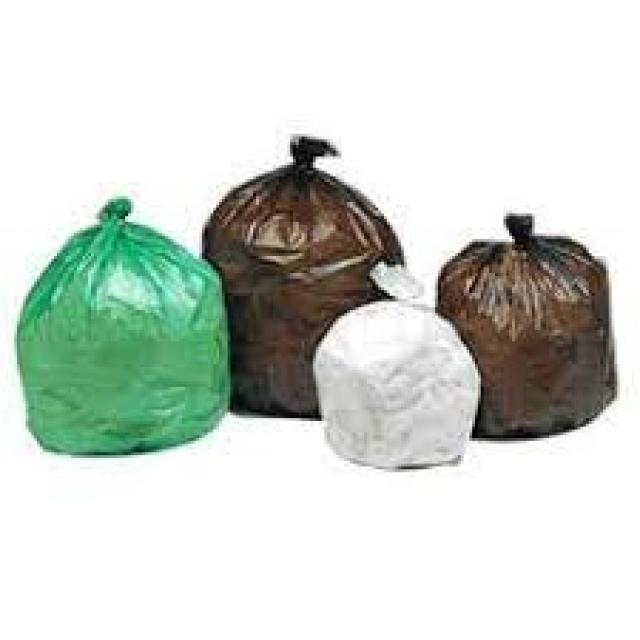sampah-detection: (193, 134, 401, 421), (14, 193, 233, 461), (410, 213, 637, 452), (307, 267, 484, 478)
